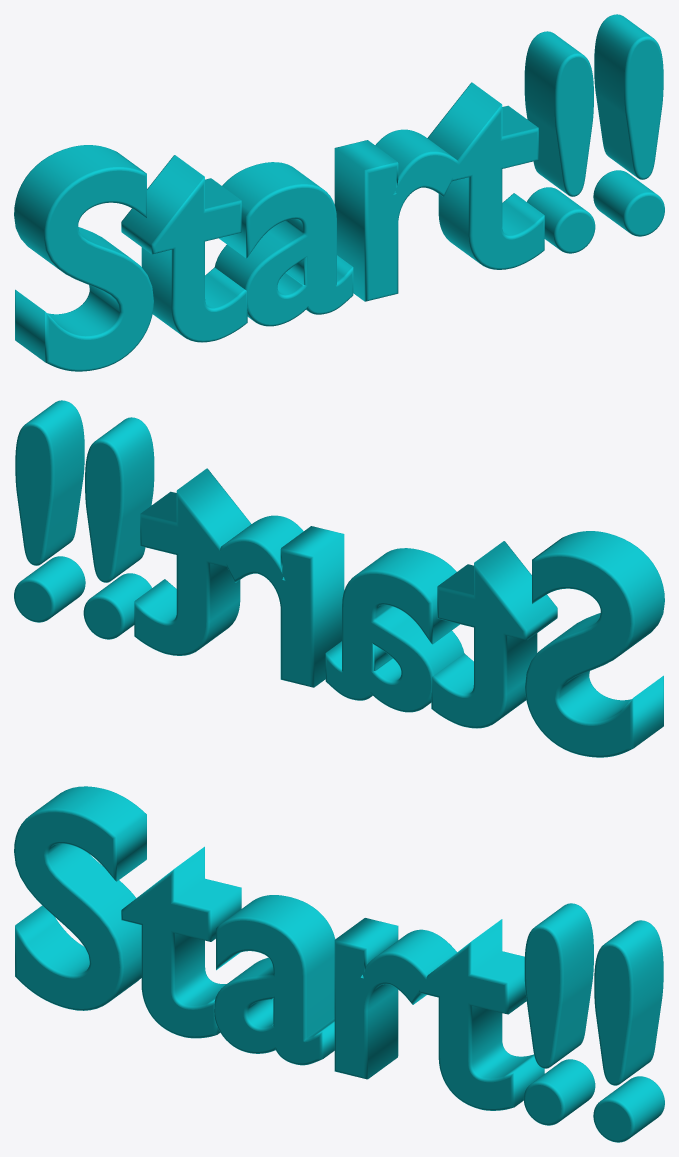
Rendered from StartButton.fbx.
The picture shows the model from 3 angles, top to bottom: view 1: azimuth 30°, elevation 25°; view 2: azimuth 150°, elevation 25°; view 3: azimuth 330°, elevation 25°; orthographic projection.
Parts seen in each view (by area): view 1: Text; view 2: Text; view 3: Text.
Boxes of the visible parts, bbox=[...] form: Text: bbox=[14, 14, 664, 371]; Text: bbox=[14, 400, 664, 757]; Text: bbox=[14, 786, 664, 1142].
Bounding box in the file's own units: 241 × 74.02 × 22.
